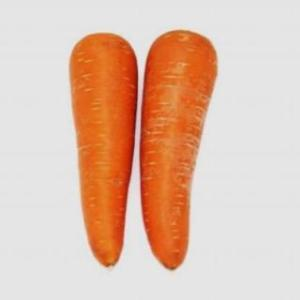carrot: (139, 28, 219, 274), (68, 29, 136, 272)
